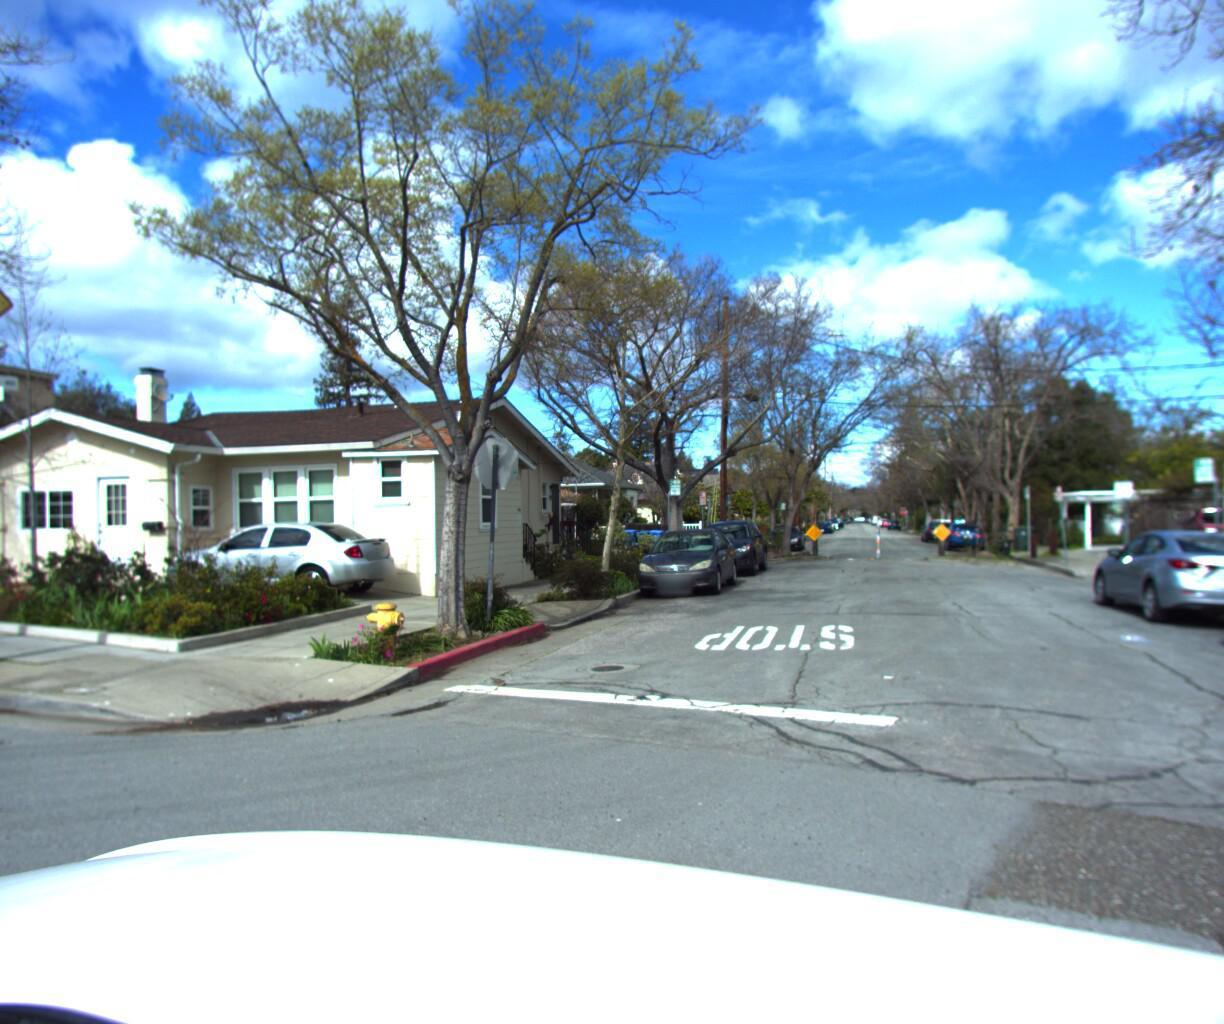car: (151, 520, 417, 605), (1082, 527, 1224, 645), (626, 530, 743, 606), (686, 523, 769, 583), (1210, 509, 1224, 743), (1177, 509, 1224, 570), (935, 527, 990, 560)
